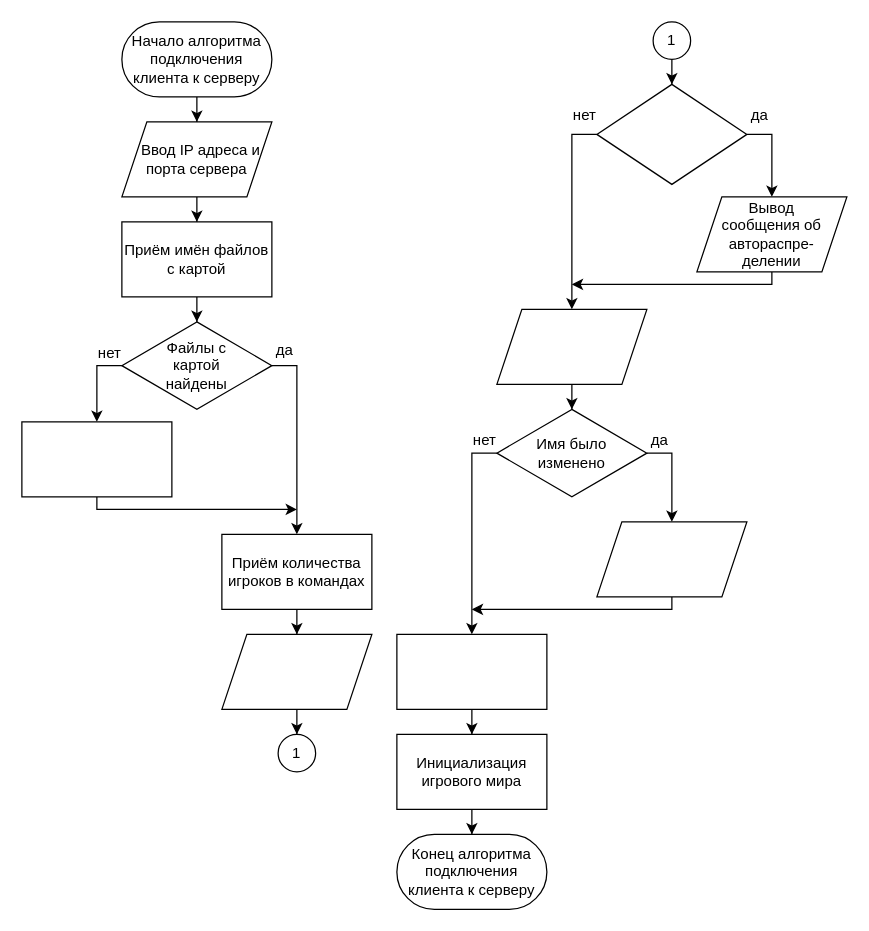
The diagram is 869 pixels wide and 931 high, and some of its shapes have lost their labels. The centre of each missing label's shape, as x and y in pixels:
"Ввод имени" goes at [571,346].
"Ввод номера выбранной команды" goes at [296,671].
"Вывод нового имени" goes at [671,559].
"Обмен данными об используемых udp сокетами портах" goes at [471,671].
"Произошло автораспре- деление" goes at [671,133].
"Скачивание файлов" goes at [96,459].
